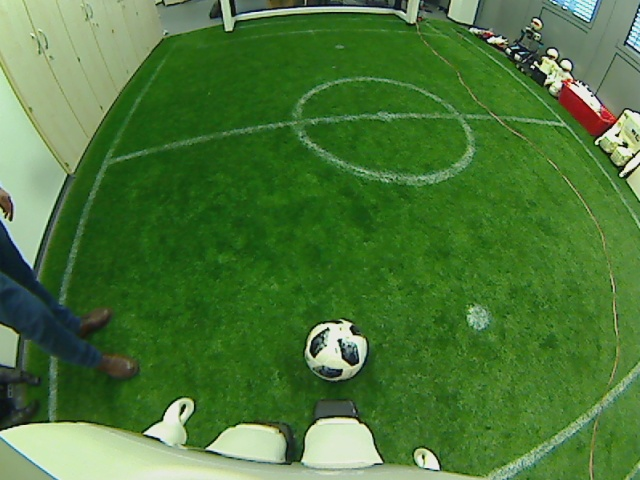ball: (302, 319, 367, 382)
